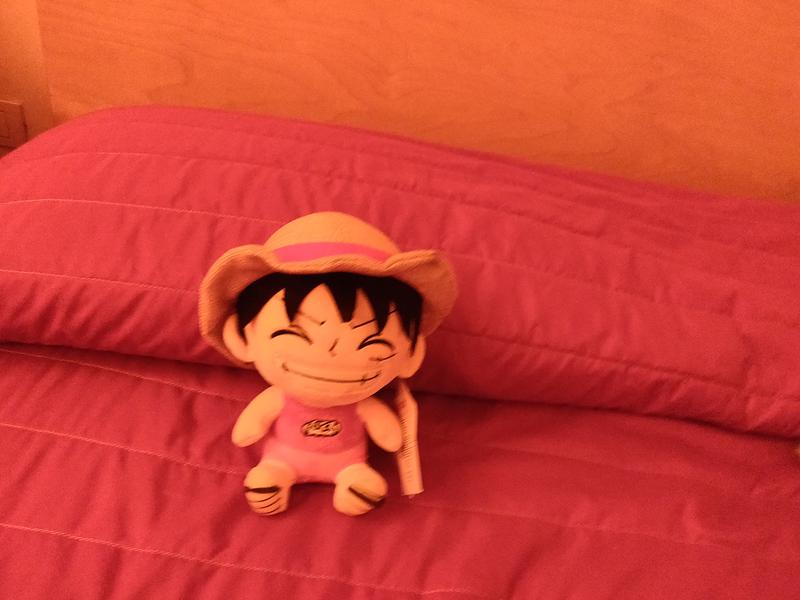rufy: (201, 201, 466, 518)
